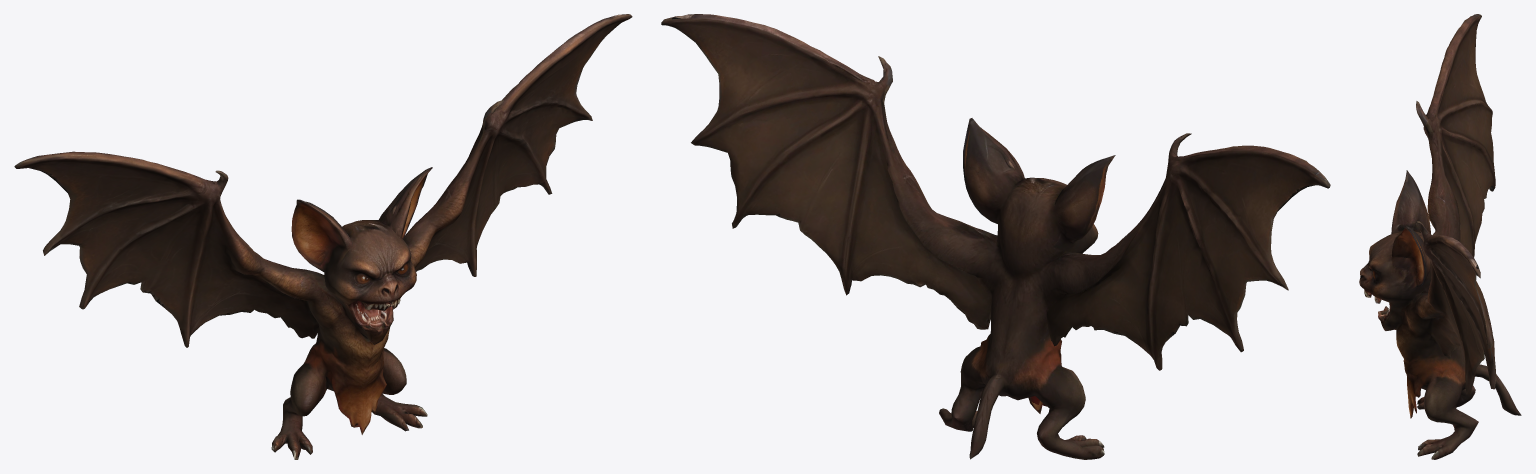
The model's file is monster_74.glb.
3 views of the same model, side by side, from view 1: azimuth 30°, elevation 25°; view 2: azimuth 150°, elevation 25°; view 3: azimuth 270°, elevation 25° (orthographic). The views are drawn at different scales.
Visible parts, largest first — view 1: Vampire_Bat_0708154933_texture; view 2: Vampire_Bat_0708154933_texture; view 3: Vampire_Bat_0708154933_texture.
Boxes of the visible parts, x1=… form: Vampire_Bat_0708154933_texture: x1=14, y1=14, x2=632, y2=459; Vampire_Bat_0708154933_texture: x1=661, y1=14, x2=1330, y2=459; Vampire_Bat_0708154933_texture: x1=1359, y1=14, x2=1521, y2=459.
Bounding box in the file's own units: 2 × 1.05 × 0.5247.
Materials: 1 (1 with a texture image).
